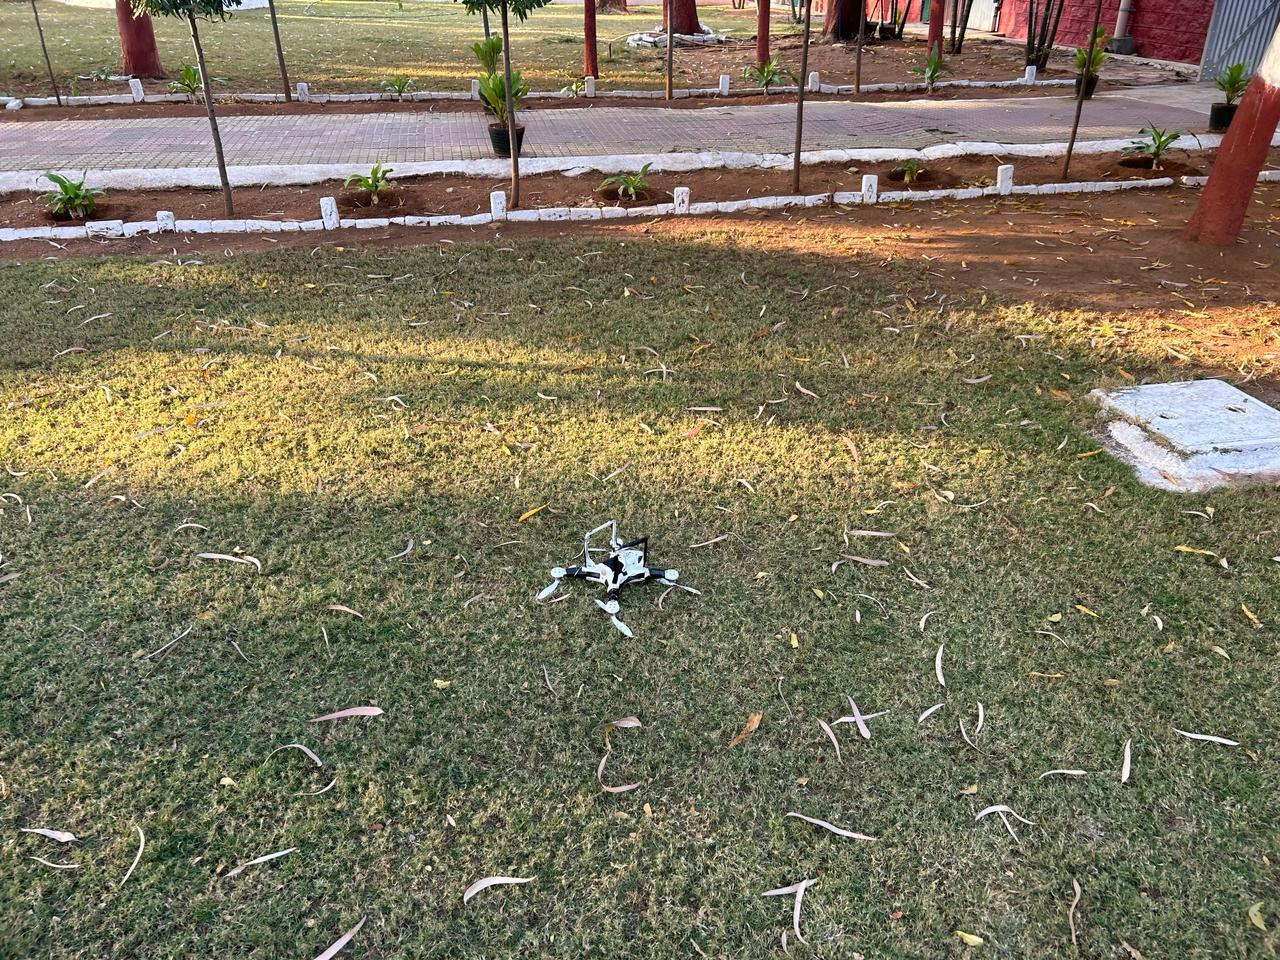drone: (526, 500, 692, 630)
